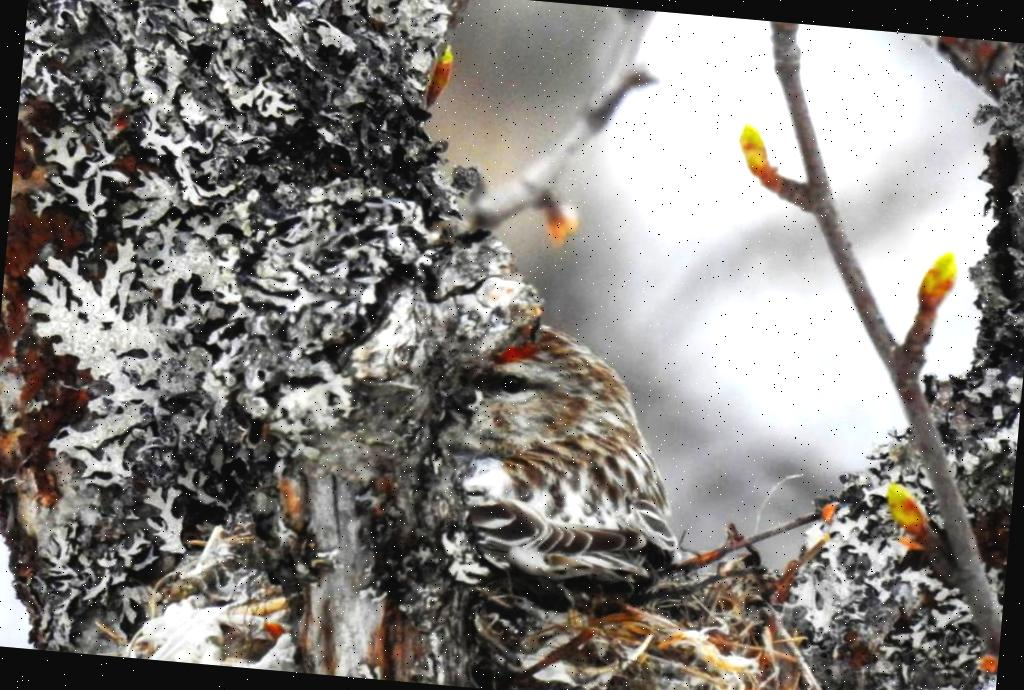Owl: (450, 318, 728, 602)
